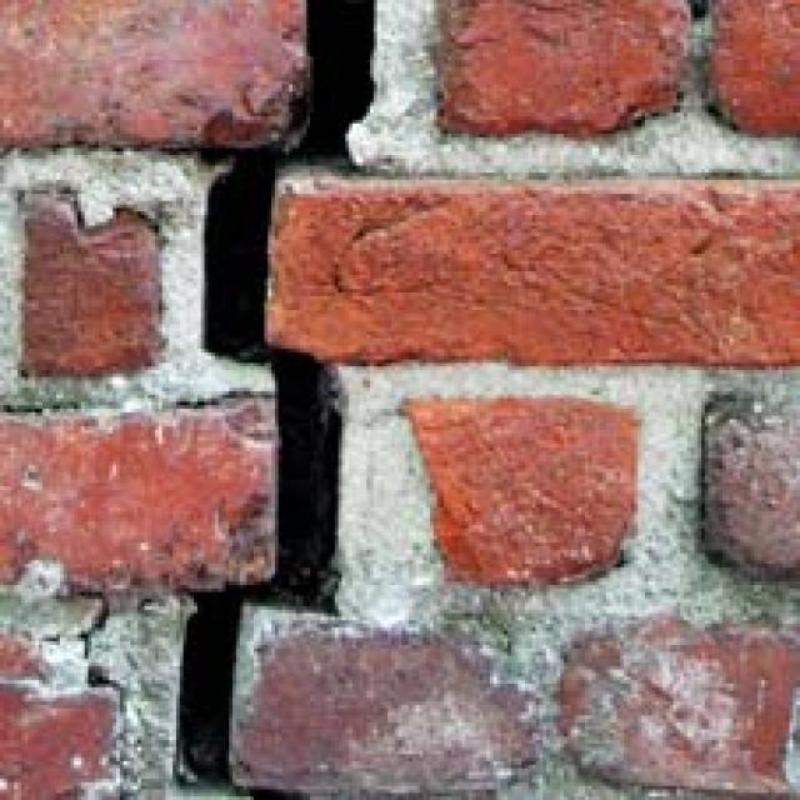pothole: (177, 150, 339, 784), (288, 0, 373, 160)
